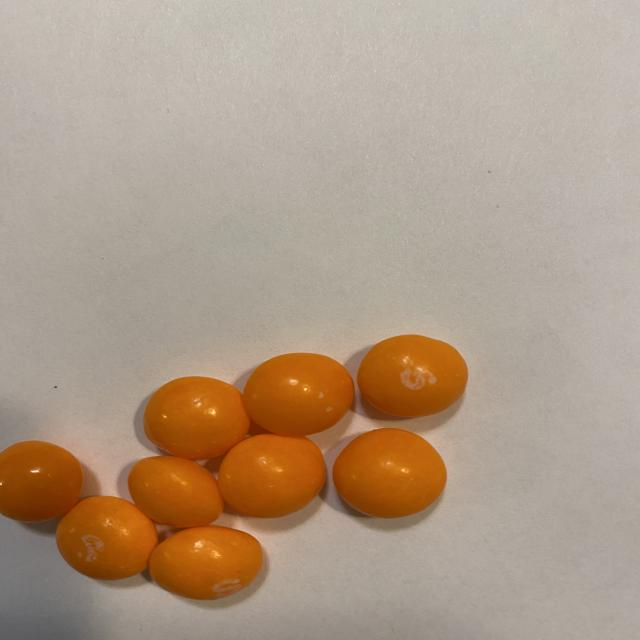smartie: (332, 429, 447, 519), (242, 353, 354, 436), (217, 434, 325, 519), (357, 335, 468, 417), (142, 377, 250, 460), (55, 497, 157, 581), (148, 526, 262, 601), (127, 457, 223, 528), (0, 441, 82, 523)
